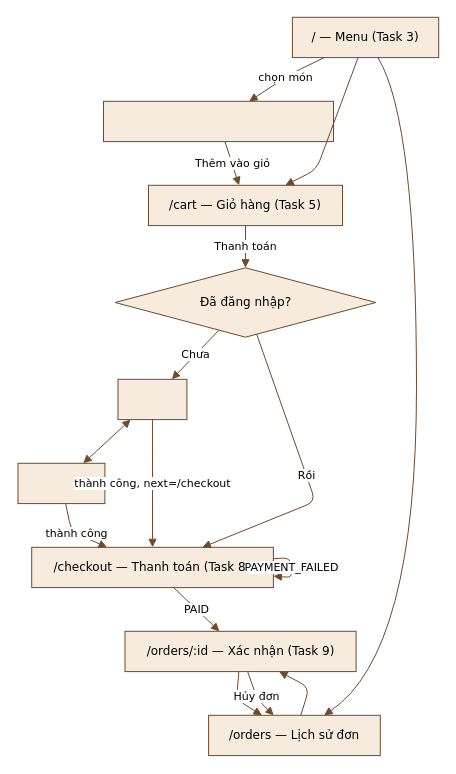
Image size: 456x774. Some labels were removed from this diagram. The centre of each missing label's shape, as x and y in pixels:
"/login" belongs at pixel 152 399.
"/products/:id — Chi tiết (Task 4)" belongs at pixel 218 121.
"/register" belongs at pixel 61 483.
